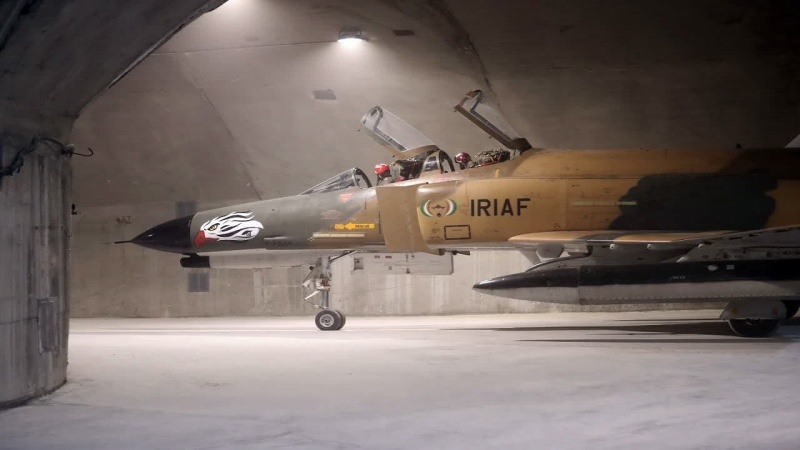F4: (100, 89, 800, 338)
